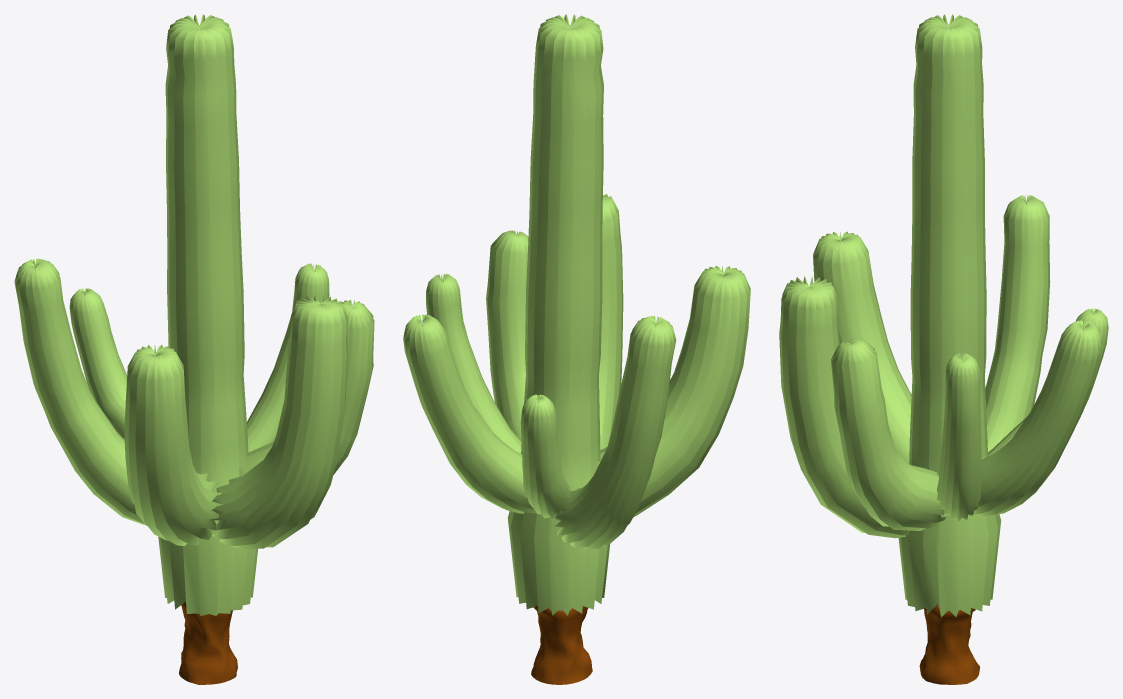
Rendered from cactus.gltf.
The picture shows the model from 3 angles, left to right: view 1: azimuth 30°, elevation 25°; view 2: azimuth 150°, elevation 25°; view 3: azimuth 270°, elevation 25°; orthographic projection.
Parts seen in each view (by area): view 1: 8_lowpoly_Cylinder.001; view 2: 8_lowpoly_Cylinder.001; view 3: 8_lowpoly_Cylinder.001.
Part boxes in pixels (x1,y1,x2,y2): 8_lowpoly_Cylinder.001: [14, 14, 374, 684]; 8_lowpoly_Cylinder.001: [403, 14, 750, 684]; 8_lowpoly_Cylinder.001: [779, 14, 1108, 684].
Size of the model in its own units: 2.15 by 4.83 by 2.23.
